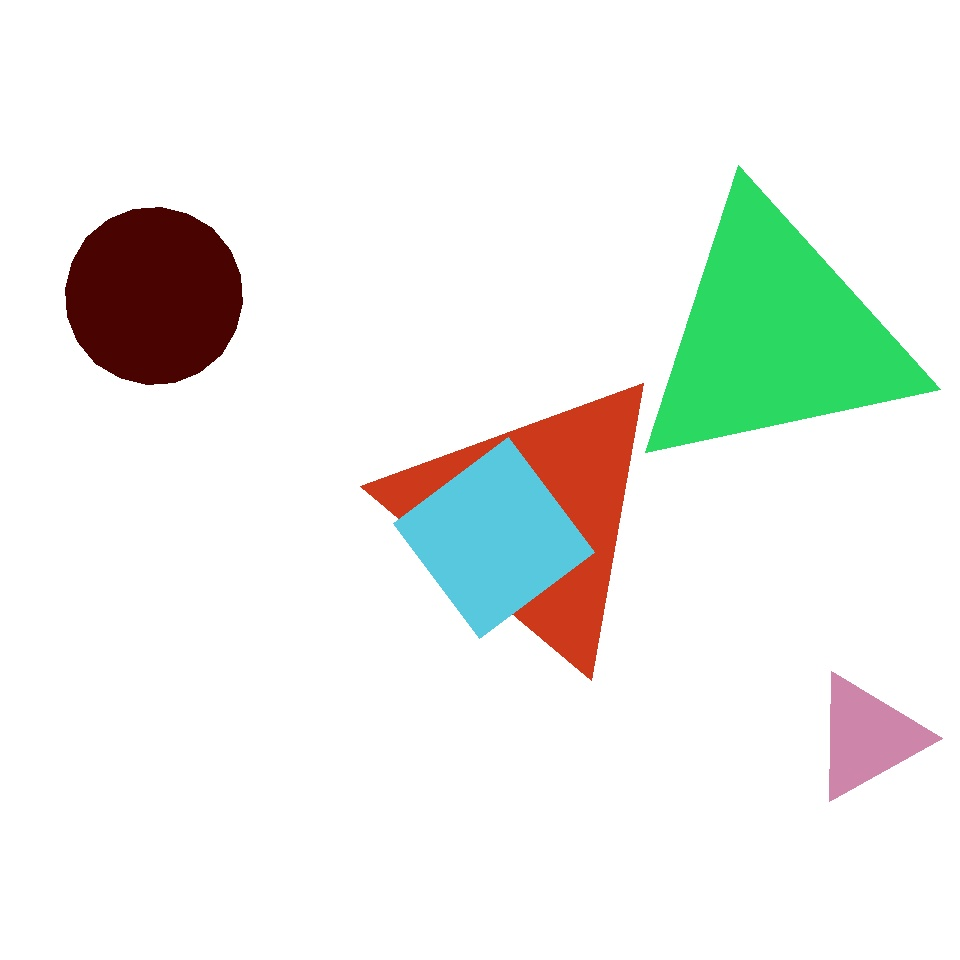circle: (306, 572, 624, 850), (627, 192, 922, 480), (390, 369, 674, 666), (558, 502, 752, 724), (208, 158, 384, 348), (812, 672, 924, 802)
square: (262, 184, 546, 468), (393, 438, 594, 638)
triangle: (66, 208, 243, 384)
